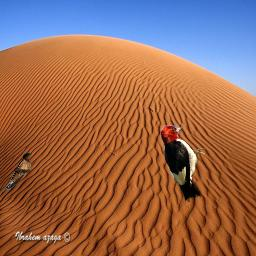Swallow: (2, 152, 32, 192)
Woodpecker: (160, 125, 207, 203)
